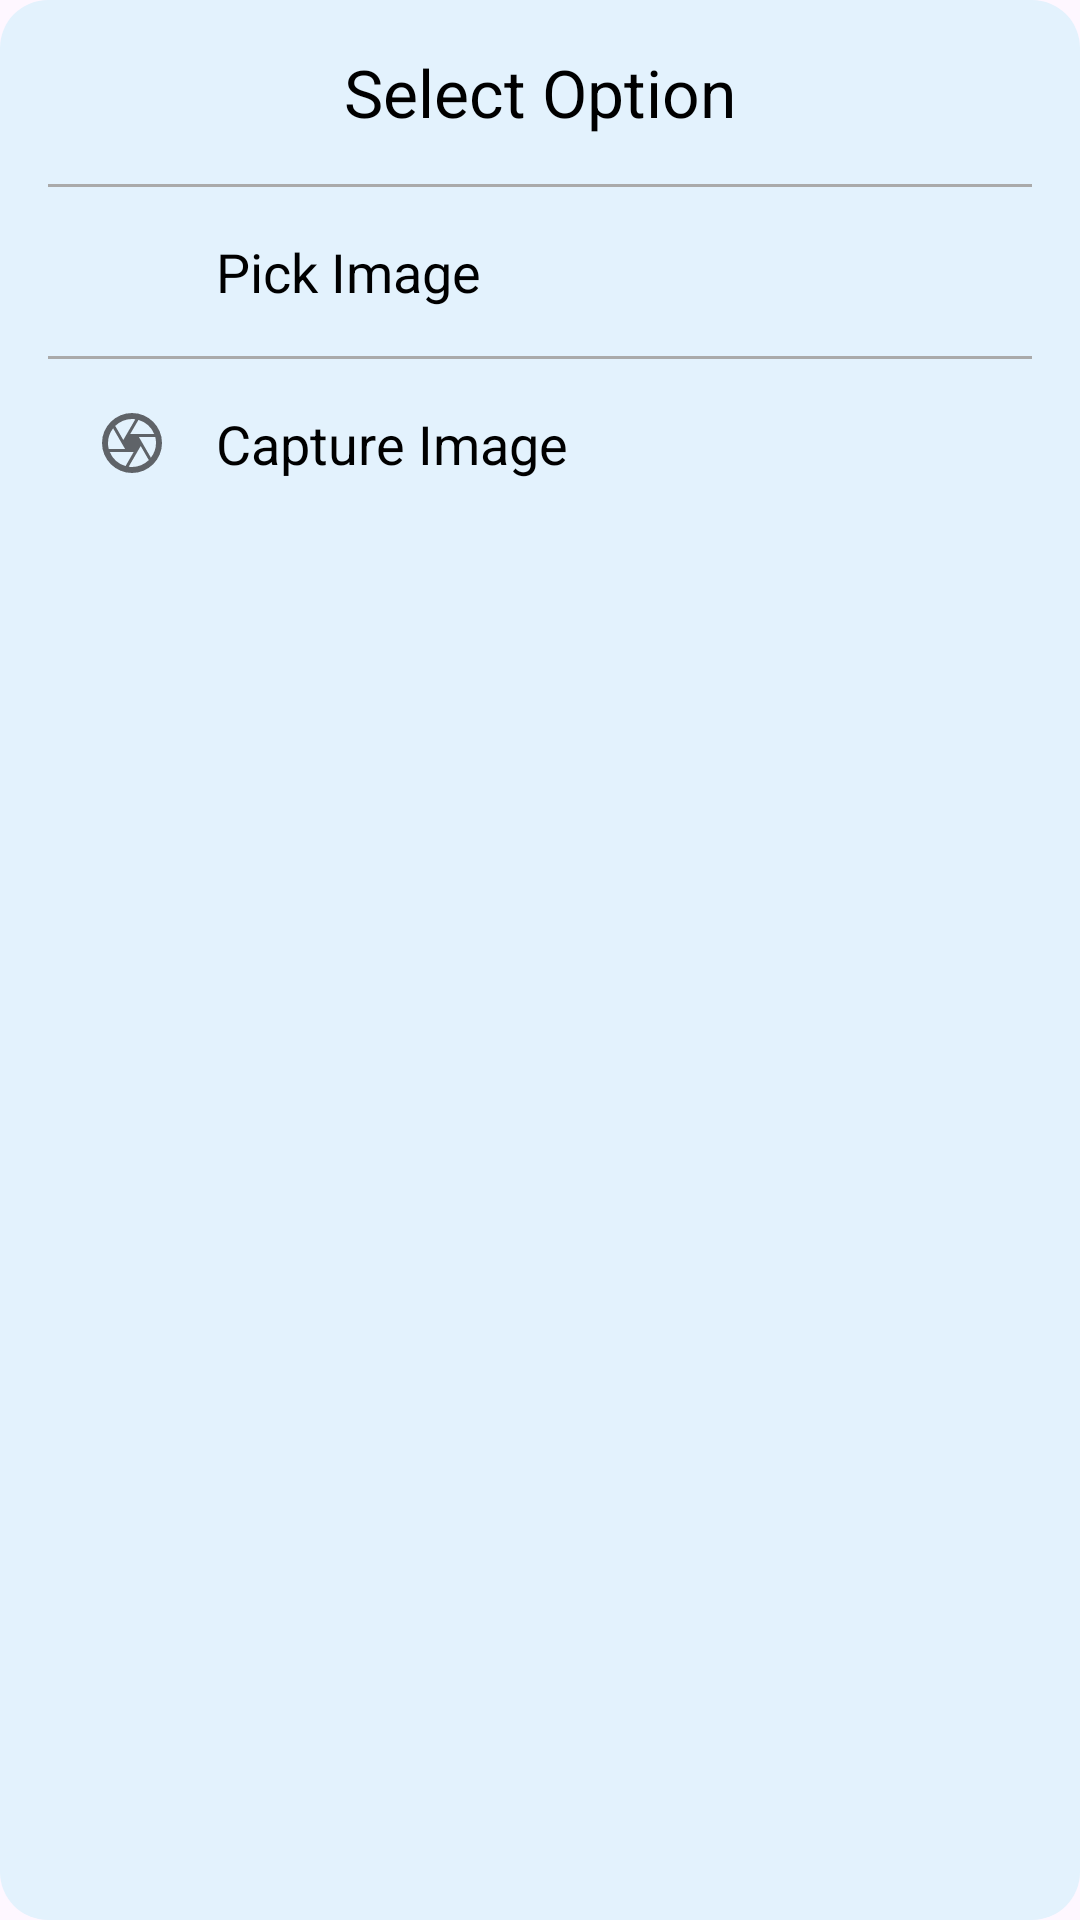

Where to tap for icons on this 1080px x 1920px app screen, as point (x, y):
camera: point (132, 443)
